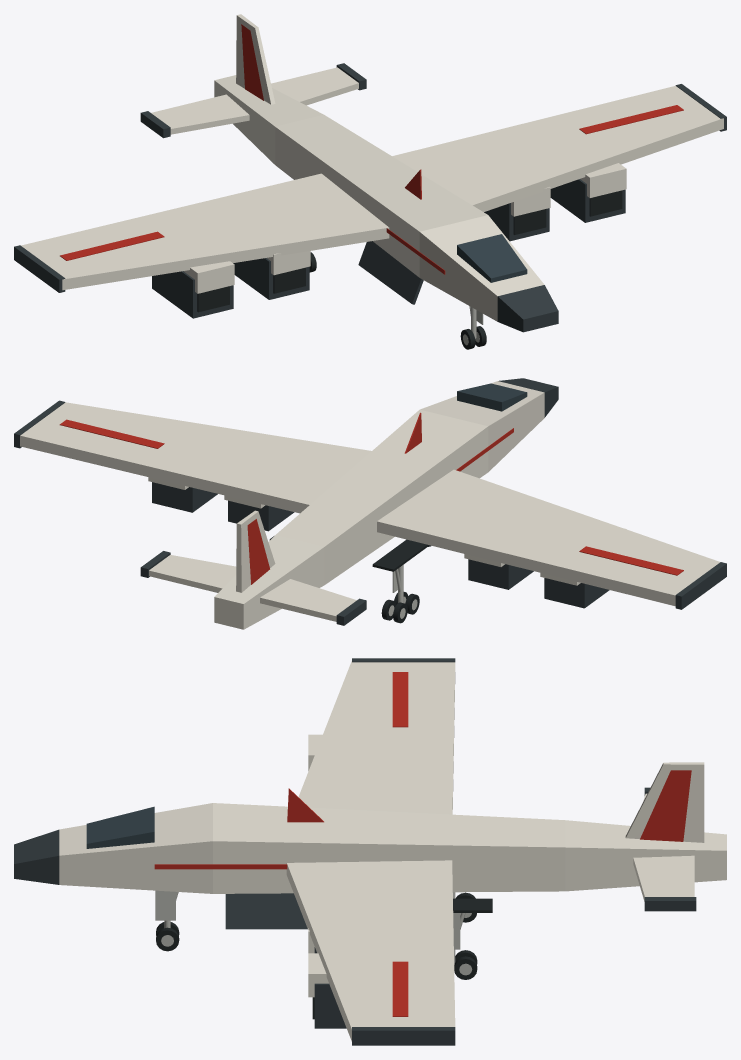
3 views of the same model, one above another, from view 1: azimuth 30°, elevation 25°; view 2: azimuth 150°, elevation 25°; view 3: azimuth 270°, elevation 25° (orthographic). The views are drawn at different scales.
Parts seen in each view (by area): view 1: bomber-fleet-armor, bomber-fleet-machine, bomber-fleet-red, bomber-fleet-rubber, bomber-fleet-glass; view 2: bomber-fleet-armor, bomber-fleet-machine, bomber-fleet-red, bomber-fleet-glass, bomber-fleet-rubber; view 3: bomber-fleet-armor, bomber-fleet-machine, bomber-fleet-red, bomber-fleet-glass, landing-gear-nose-fleet-edge, bomber-fleet-rubber.
Boxes of the visible parts, x1,y1,x2,y2 form: bomber-fleet-armor: (21,14,723,321); bomber-fleet-machine: (14,63,726,332); bomber-fleet-red: (60,24,683,274); bomber-fleet-rubber: (197,190,622,312); bomber-fleet-glass: (457,234,527,282); bomber-fleet-armor: (20,381,720,629); bomber-fleet-machine: (14,378,726,625); bomber-fleet-red: (59,412,683,584); bomber-fleet-glass: (457,383,527,411); bomber-fleet-rubber: (269,536,428,571); bomber-fleet-armor: (59,661,726,1041); bomber-fleet-machine: (14,658,696,1045); bomber-fleet-red: (154,672,691,1016); bomber-fleet-glass: (86,806,154,848); landing-gear-nose-fleet-edge: (155,890,178,928); bomber-fleet-rubber: (312,898,492,1019).
Bounding box in the file's own units: 156 × 35.86 × 126.
